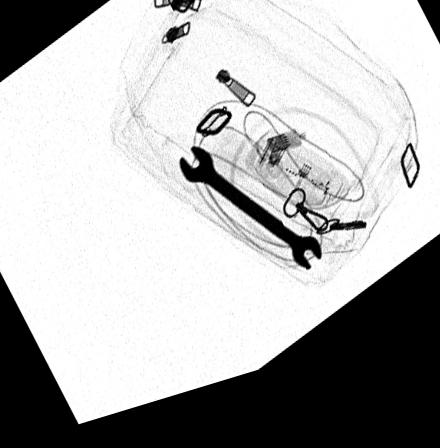Wrench: (180, 153, 325, 289)
